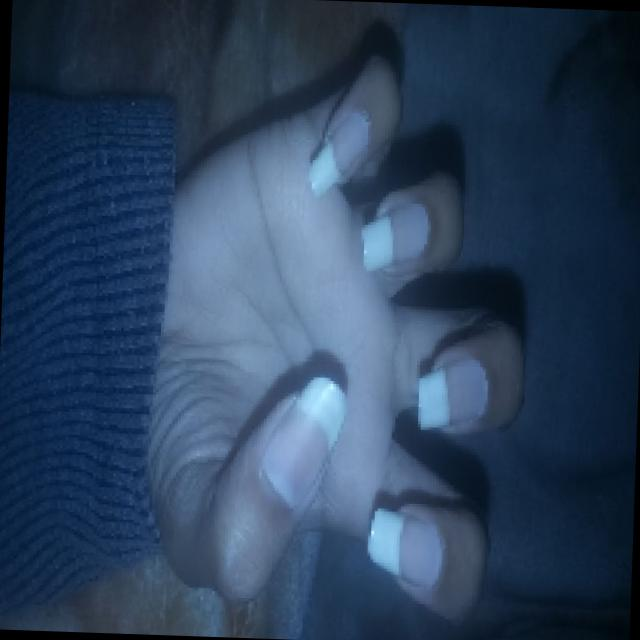Nail: (260, 376, 344, 508), (366, 507, 442, 589), (308, 111, 369, 196), (415, 357, 487, 429), (361, 202, 427, 271)
